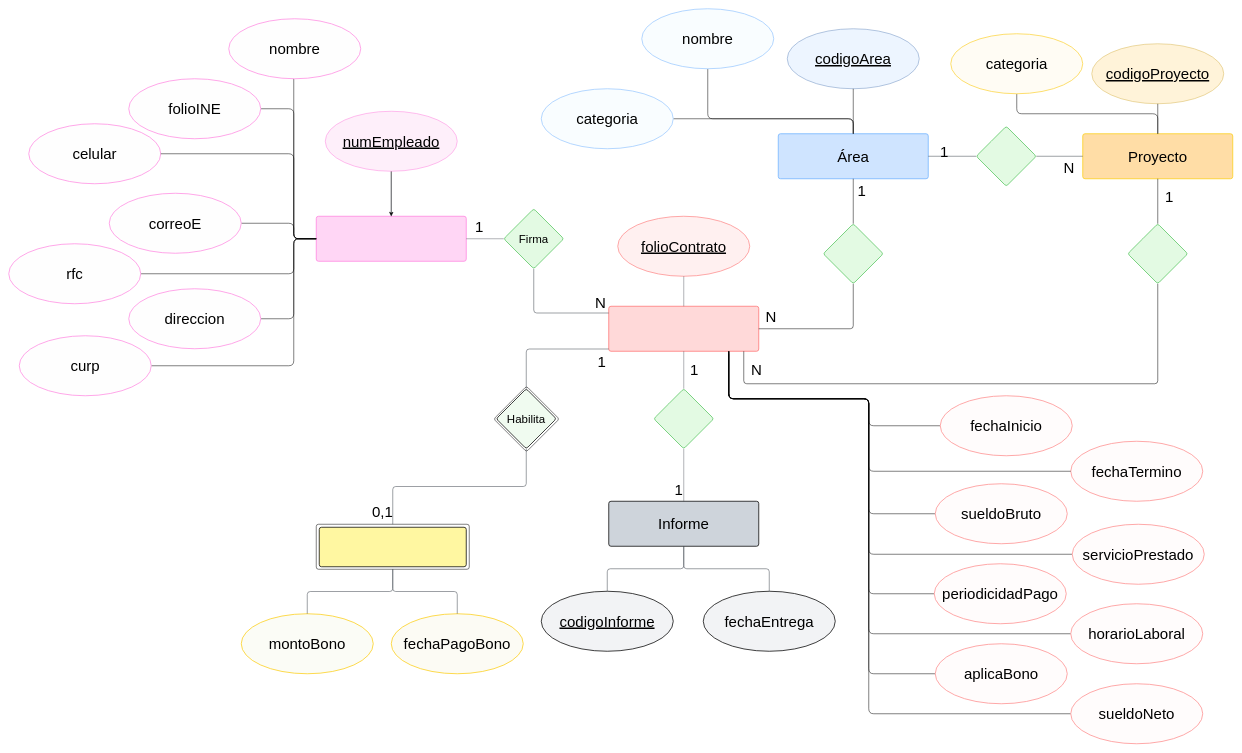
Some shapes in this 1242 by 753 pixel diagram are drawn without their labels. The box of each missing label's shape, as (x1, y1, x2, y2) in pixels:
Bono: (319, 527, 466, 567)
comprueba: (653, 388, 714, 449)
Contrato: (608, 306, 759, 351)
Gestiona: (976, 126, 1036, 186)
Justifica: (1127, 223, 1188, 284)
Prestador: (316, 216, 466, 261)
Solicita: (823, 223, 883, 284)
